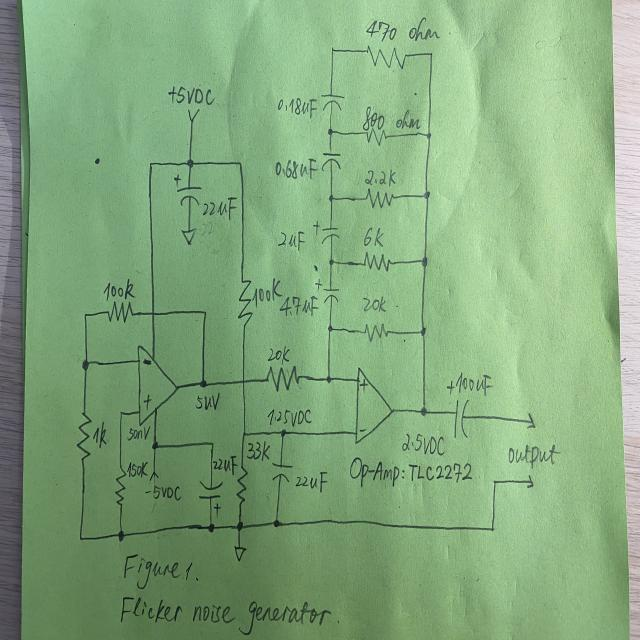capacitor: (445, 380, 471, 440), (197, 478, 224, 518), (173, 173, 202, 208), (311, 219, 341, 246), (315, 275, 340, 304), (318, 90, 344, 114), (319, 149, 342, 173), (270, 462, 293, 483)
crossover: (149, 308, 157, 319), (240, 377, 247, 386)
ground: (180, 227, 197, 247), (232, 543, 248, 563)
junction: (80, 358, 90, 372), (422, 188, 432, 202), (185, 156, 195, 170), (324, 373, 334, 386), (116, 528, 125, 542), (419, 405, 428, 417), (420, 255, 428, 268), (207, 522, 216, 533), (235, 520, 244, 531), (272, 518, 281, 529), (419, 326, 427, 338), (328, 256, 336, 268), (328, 44, 336, 56), (147, 158, 155, 170), (279, 428, 288, 438), (326, 126, 334, 137), (199, 378, 207, 389), (236, 158, 244, 169), (488, 524, 496, 534), (326, 324, 334, 334), (151, 440, 159, 450), (425, 130, 433, 140), (117, 408, 125, 418), (491, 477, 498, 488), (82, 310, 89, 320), (328, 193, 334, 203), (78, 533, 84, 542), (428, 50, 434, 59), (202, 308, 208, 317), (241, 430, 247, 438), (210, 440, 215, 447)
resistor: (364, 44, 409, 71), (263, 364, 302, 393), (235, 278, 254, 329), (75, 409, 92, 464), (105, 300, 135, 325), (363, 188, 396, 210), (362, 251, 392, 274), (362, 321, 391, 344), (235, 464, 249, 507), (114, 465, 126, 507), (363, 128, 388, 148)
terminal: (186, 106, 201, 124), (526, 411, 536, 430), (526, 475, 534, 489), (149, 471, 159, 481)
text: (119, 595, 332, 636), (345, 457, 475, 488), (123, 553, 200, 590), (364, 15, 442, 43), (362, 106, 422, 131), (507, 442, 560, 468), (400, 432, 447, 457), (167, 83, 216, 106), (274, 158, 318, 182), (266, 407, 313, 427), (457, 370, 493, 396), (277, 96, 317, 119), (200, 196, 236, 221), (253, 278, 284, 307), (294, 470, 329, 494), (279, 296, 317, 318), (102, 278, 135, 301), (144, 483, 182, 502), (364, 166, 397, 187), (276, 230, 306, 252), (362, 224, 386, 248), (246, 440, 270, 462), (362, 294, 388, 314), (196, 392, 220, 412), (211, 455, 236, 474), (92, 423, 109, 450), (266, 346, 290, 363), (126, 461, 149, 478), (127, 426, 149, 442), (144, 393, 152, 411), (360, 378, 368, 392), (142, 357, 152, 367), (358, 426, 366, 434)
